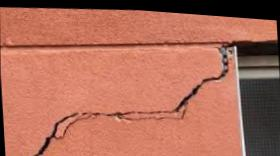crack: (31, 39, 236, 156)
